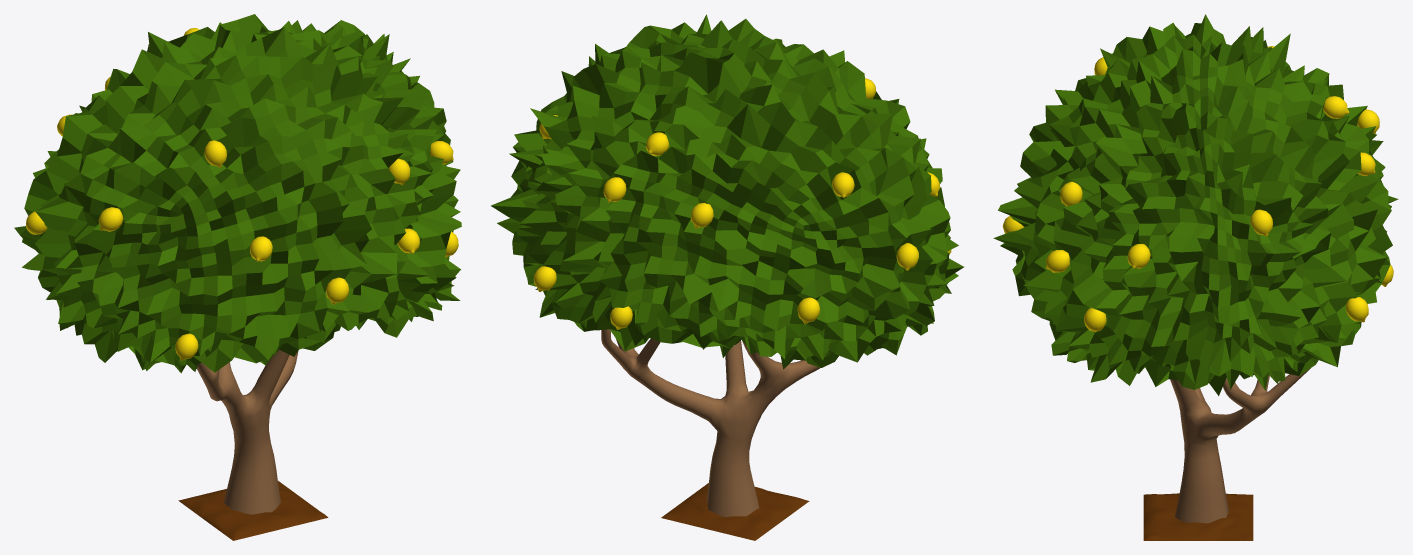
File: lemon.glb
The picture shows the model from 3 angles, left to right: view 1: azimuth 30°, elevation 25°; view 2: azimuth 150°, elevation 25°; view 3: azimuth 270°, elevation 25°; orthographic projection.
Visible parts, largest first — view 1: 5_summer_nft; view 2: 5_summer_nft; view 3: 5_summer_nft.
Part boxes in pixels (x1,y1,x2,y2): 5_summer_nft: (14, 14, 461, 540); 5_summer_nft: (491, 14, 963, 540); 5_summer_nft: (993, 14, 1398, 540).
Size of the model in its own units: 6.17 by 6.76 by 5.18.
